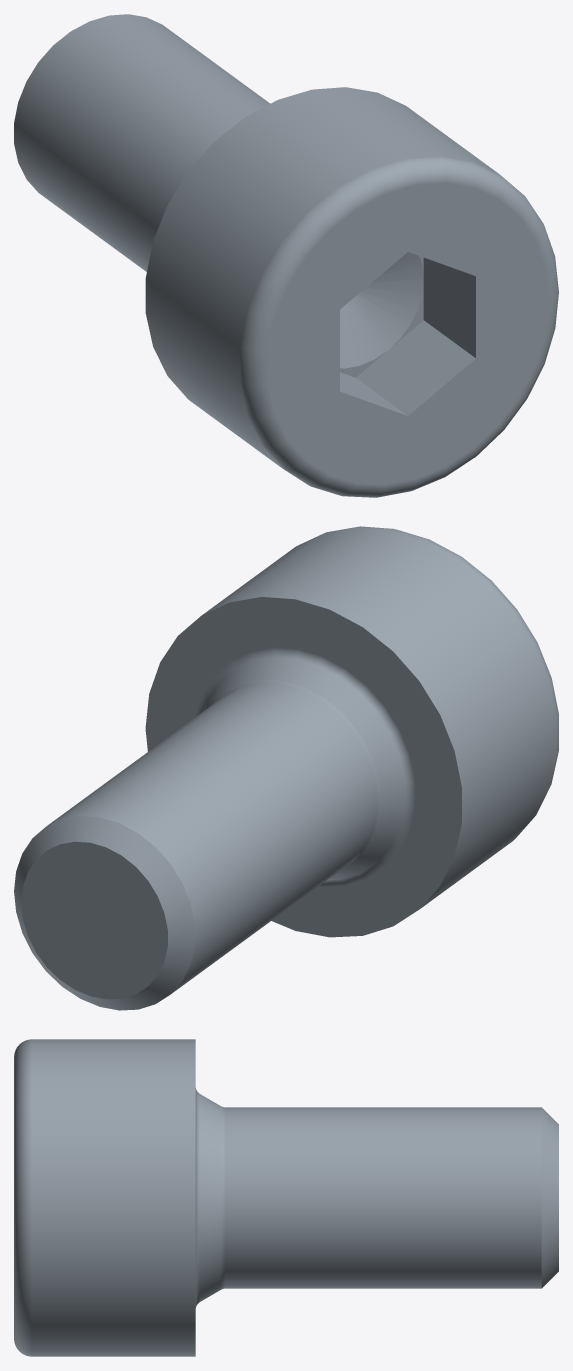
File: Hex_socket_head_cap_screw_M4x0_70_x_8.obj
3 views of the same model, one above another, from view 1: azimuth 30°, elevation 25°; view 2: azimuth 150°, elevation 25°; view 3: azimuth 270°, elevation 25° (orthographic). The views are drawn at different scales.
Visible parts, largest first — view 1: mesh3169, mesh3167, mesh3162, mesh3168, mesh3177, mesh3175, mesh3170, mesh3174; view 2: mesh3162, mesh3167, mesh3166, mesh3160, mesh3161, mesh3164, mesh3165, mesh3168, mesh3163; view 3: mesh3162, mesh3167, mesh3168, mesh3164, mesh3161, mesh3165, mesh3163.
Part boxes in pixels (box(x1,y1,x2,y2)): mesh3169: box(268, 183, 548, 484); mesh3167: box(145, 87, 499, 467); mesh3162: box(14, 14, 270, 271); mesh3168: box(240, 156, 558, 497); mesh3177: box(340, 252, 423, 368); mesh3175: box(356, 320, 475, 415); mesh3170: box(423, 257, 475, 357); mesh3174: box(340, 372, 407, 415); mesh3162: box(47, 682, 377, 993); mesh3167: box(203, 528, 556, 908); mesh3166: box(145, 597, 461, 937); mesh3160: box(21, 841, 167, 999); mesh3161: box(14, 816, 194, 1010); mesh3164: box(203, 657, 404, 880); mesh3165: box(195, 647, 415, 886); mesh3168: box(300, 526, 558, 837); mesh3163: box(218, 679, 381, 869); mesh3162: box(225, 1107, 541, 1288); mesh3167: box(32, 1039, 195, 1356); mesh3168: box(14, 1039, 32, 1356); mesh3164: box(200, 1094, 220, 1301); mesh3161: box(541, 1107, 558, 1288); mesh3165: box(195, 1088, 200, 1307); mesh3163: box(220, 1106, 225, 1289).
Size of the model in its own units: 0.00698 by 0.00699 by 0.012.
